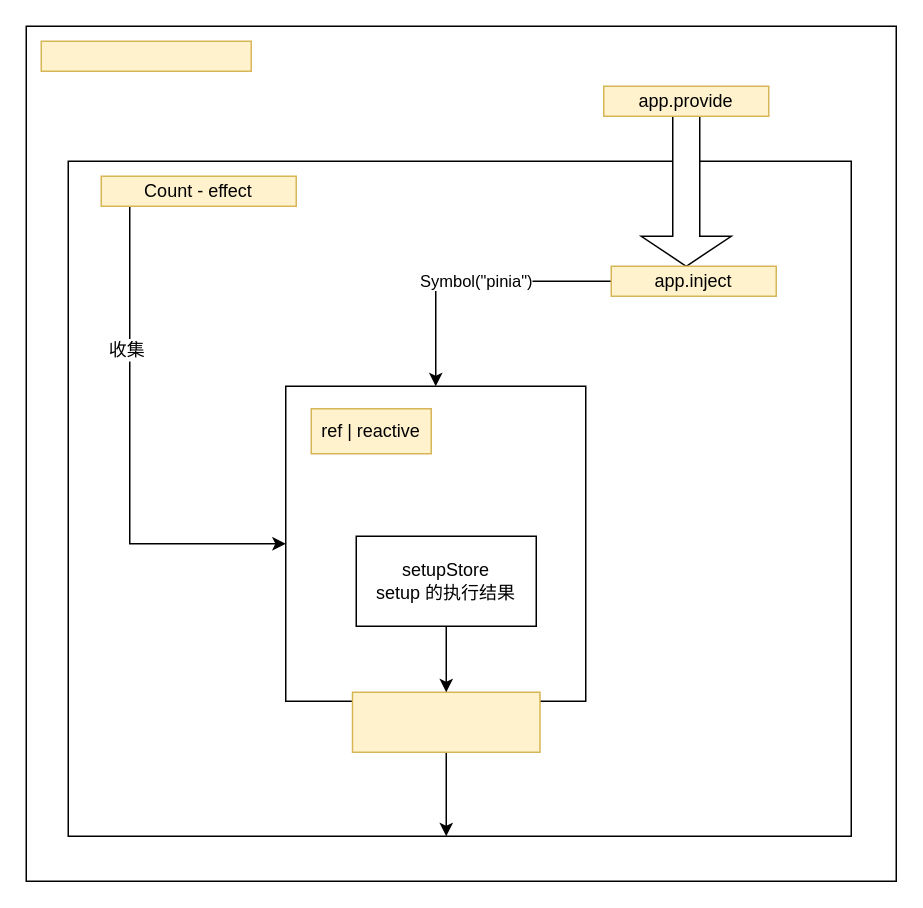
Some shapes in this 923 by 908 pixel diagram are drawn without their labels. Each missing label, with the box of its shape:
App - effect: (40, 40, 251, 71)
state 更改 将收集的 effect 更新: (351, 691, 540, 752)
